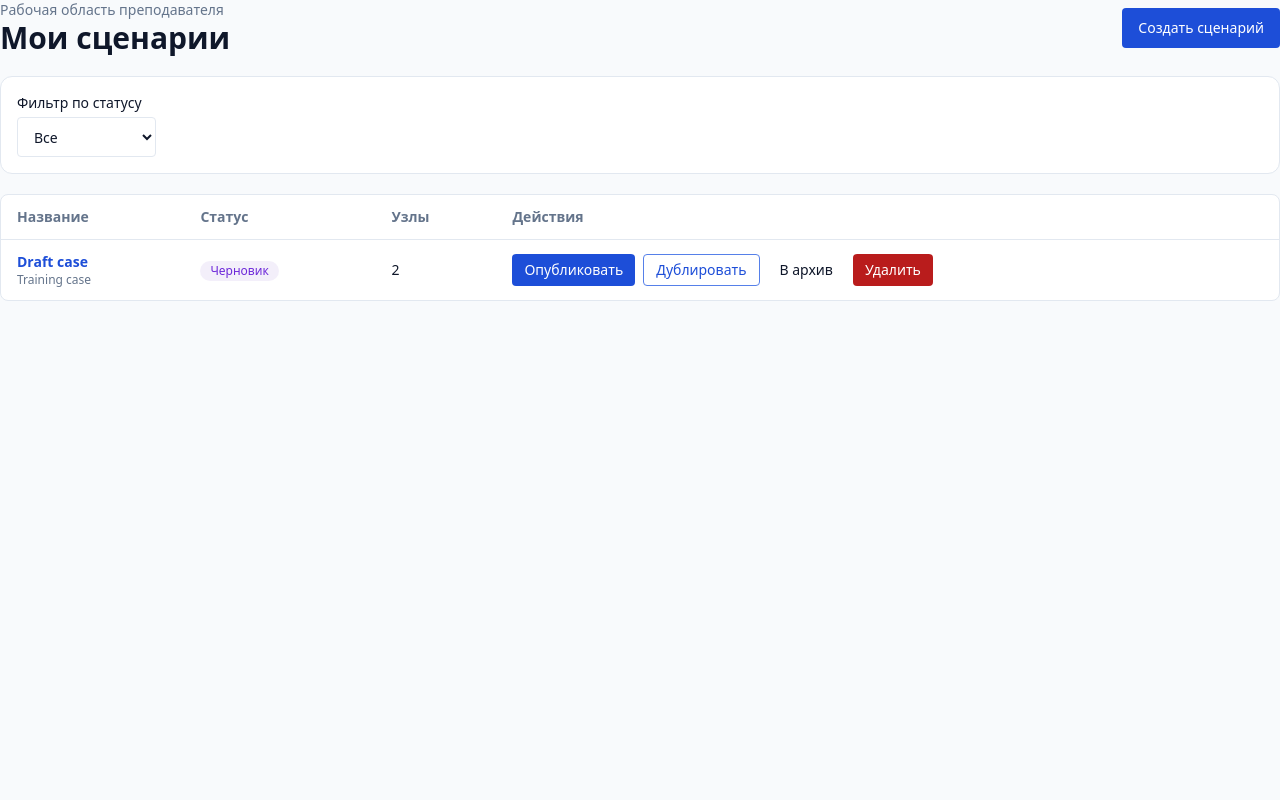
Test: MyScenarios create / publish actions › opens the create scenario modal when the button is clicked
expect the link "Draft case" is shown: met, box [17,252,88,271]
Click the button "Создать сценарий": point(1201, 28) [1122,8,1279,48]
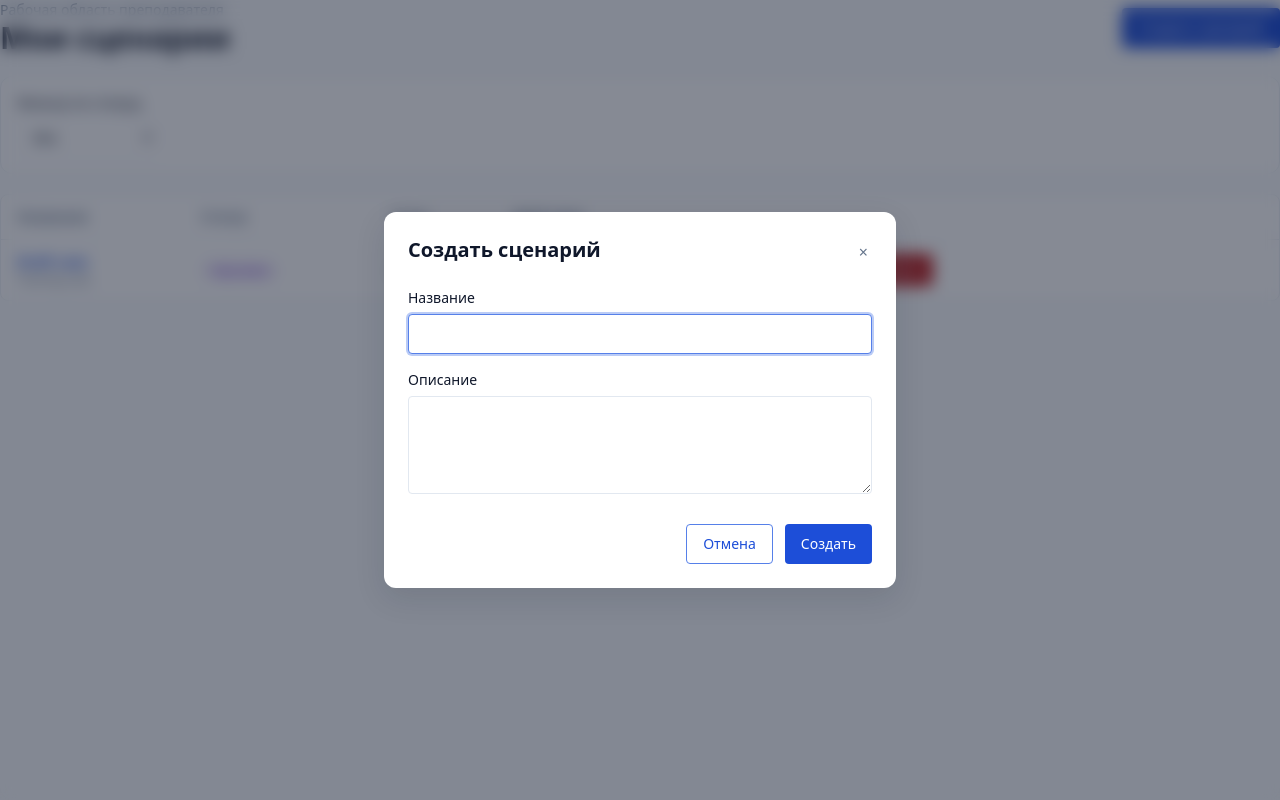
expect the text box labelled "Описание" is shown: met, box [408,396,872,494]
expect the field labelled "Название" is shown: met, box [408,314,872,354]
